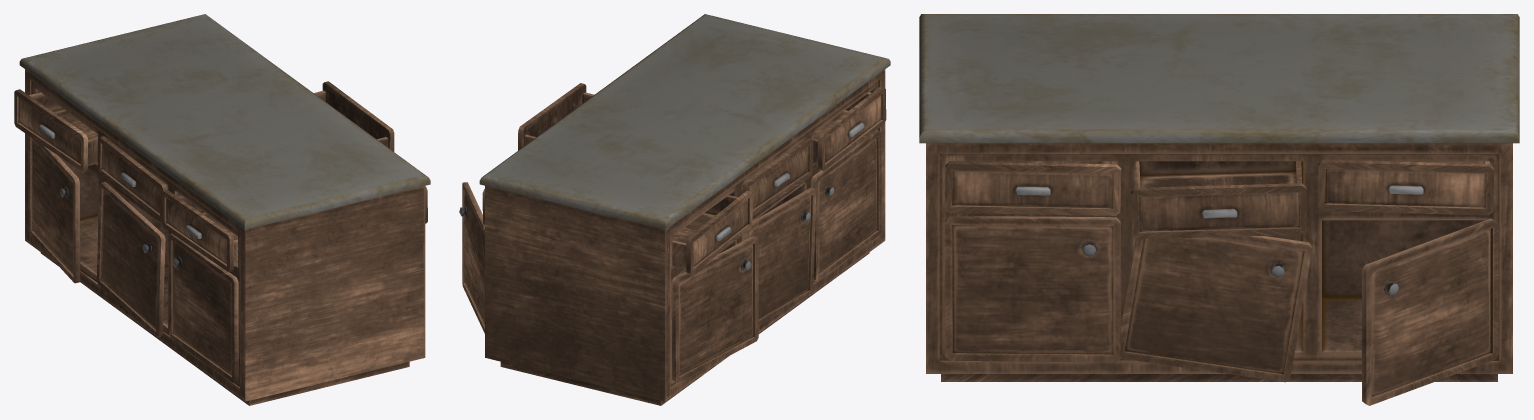
The model's file is low_poly_kitchen_furniture_-_game_ready.glb.
3 renders of one model, left to right at view 1: azimuth 30°, elevation 25°; view 2: azimuth 150°, elevation 25°; view 3: azimuth 270°, elevation 25°, orthographic. The views are drawn at different scales.
Visible parts, largest first — view 1: Cube_0, Cube.002_8, Cube.006_2, Cube.012_6, Cube.011_5, Cube.001_7, Cube.005_1, Cube.003_9; view 2: Cube_0, Cube.012_6, Cube.002_8, Cube.006_2, Cube.011_5, Cube.001_7, Cube.008_4, Cube.005_1, Cube.003_9; view 3: Cube_0, Cube.010_12, Cube.004_10, Cube.008_4, Cube.003_9, Cube.009_11, Cube.007_3.
Boxes of the visible parts, left/top/right/bottom form: Cube_0: left=19, top=14, right=430, bottom=405; Cube.002_8: left=168, top=233, right=238, bottom=383; Cube.006_2: left=96, top=182, right=165, bottom=337; Cube.012_6: left=28, top=135, right=80, bottom=283; Cube.011_5: left=14, top=89, right=97, bottom=171; Cube.001_7: left=162, top=190, right=237, bottom=272; Cube.005_1: left=97, top=136, right=167, bottom=221; Cube.003_9: left=314, top=81, right=394, bottom=151; Cube_0: left=479, top=14, right=890, bottom=405; Cube.012_6: left=671, top=236, right=758, bottom=382; Cube.002_8: left=811, top=130, right=881, bottom=281; Cube.006_2: left=742, top=187, right=816, bottom=325; Cube.011_5: left=672, top=191, right=752, bottom=274; Cube.001_7: left=812, top=86, right=886, bottom=170; Cube.008_4: left=459, top=182, right=484, bottom=333; Cube.005_1: left=742, top=138, right=813, bottom=215; Cube.003_9: left=518, top=83, right=594, bottom=150; Cube_0: left=919, top=14, right=1519, bottom=381; Cube.010_12: left=944, top=216, right=1120, bottom=362; Cube.004_10: left=1121, top=236, right=1312, bottom=382; Cube.008_4: left=1362, top=218, right=1498, bottom=405; Cube.003_9: left=1131, top=161, right=1307, bottom=239; Cube.009_11: left=945, top=161, right=1121, bottom=215; Cube.007_3: left=1317, top=159, right=1494, bottom=215.
Size of the model in its own units: 3.84 by 2.51 by 5.29.
Materials: 1 (1 with a texture image).
